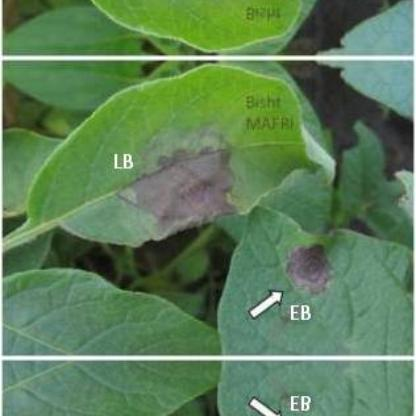Early-Blight: (63, 79, 269, 225), (223, 199, 410, 300), (63, 0, 269, 35)
